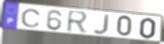0: (116, 15, 135, 39), (138, 17, 157, 39)
6: (46, 9, 64, 32)
C: (20, 8, 42, 28)
J: (92, 14, 111, 36)
R: (66, 9, 90, 35)
